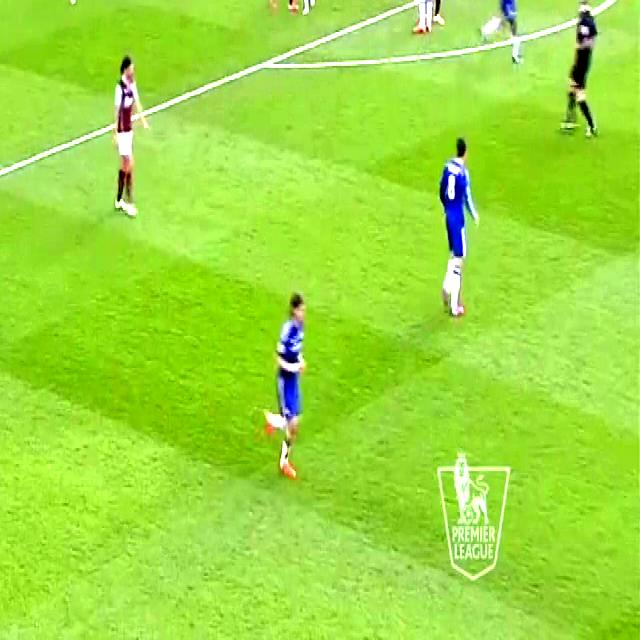referee: (557, 0, 602, 144)
soccer-player: (430, 122, 483, 324), (261, 282, 309, 490), (106, 42, 151, 227), (476, 0, 524, 73), (407, 0, 436, 46), (422, 0, 454, 36), (264, 0, 298, 21), (294, 0, 325, 18), (51, 0, 86, 14)
